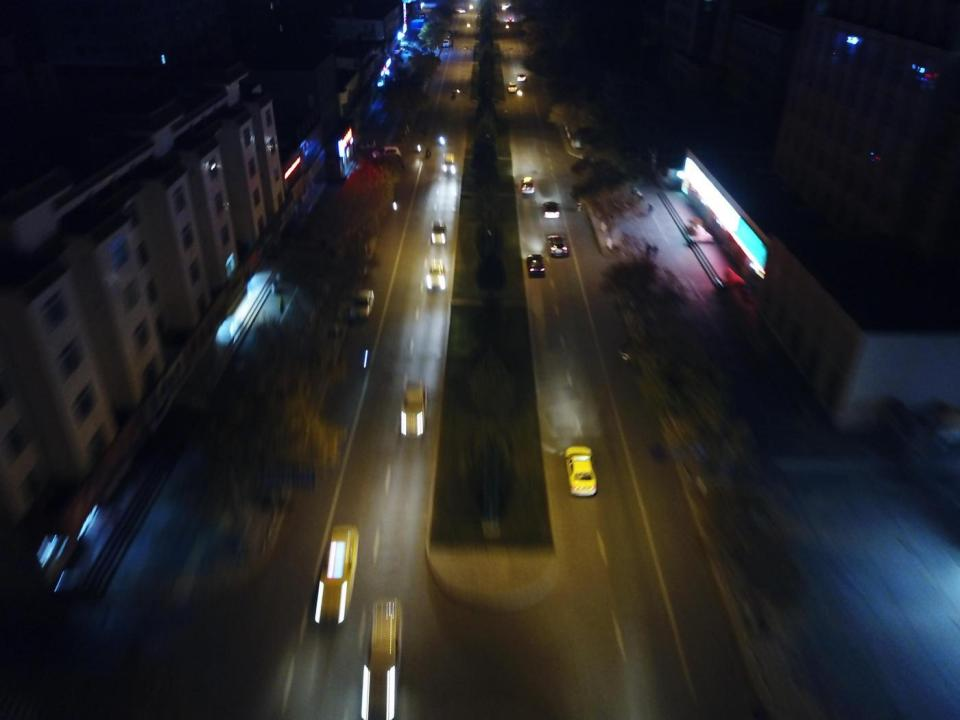bus: (442, 27, 451, 48)
car: (313, 522, 357, 625), (364, 598, 399, 720), (565, 446, 597, 498), (399, 384, 426, 437), (426, 257, 446, 291), (351, 291, 373, 317), (550, 232, 567, 254), (542, 200, 560, 218), (432, 222, 446, 244), (529, 254, 542, 276), (522, 175, 534, 195), (507, 82, 517, 93), (500, 2, 511, 10), (517, 73, 527, 81), (455, 8, 466, 14), (508, 18, 514, 23)
van: (371, 146, 400, 160), (443, 153, 455, 173)
